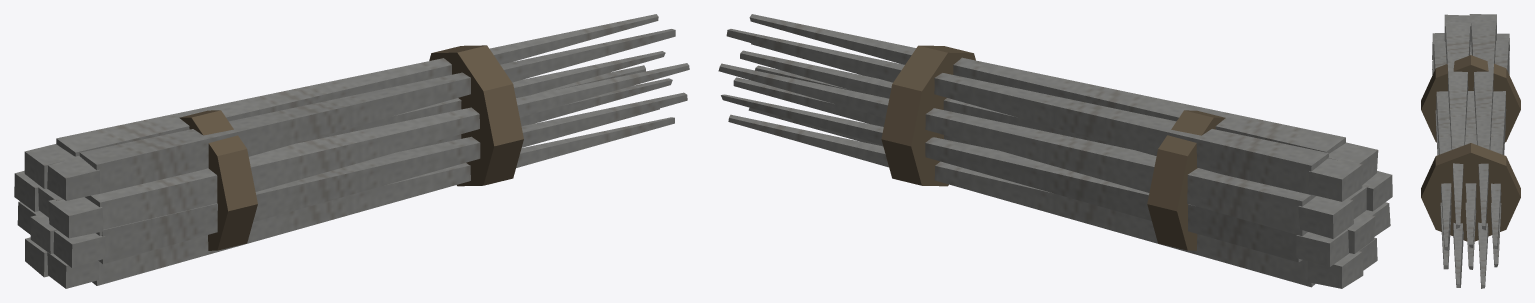
The model's file is needle_bundle.glb.
3 views of the same model, side by side, from view 1: azimuth 30°, elevation 25°; view 2: azimuth 150°, elevation 25°; view 3: azimuth 270°, elevation 25° (orthographic). The views are drawn at different scales.
Visible parts, largest first — view 1: NeedleBundle; view 2: NeedleBundle; view 3: NeedleBundle.
Boxes of the visible parts, box(x1,y1,x2,y2) form: NeedleBundle: box(14, 14, 689, 288); NeedleBundle: box(718, 14, 1392, 288); NeedleBundle: box(1421, 14, 1520, 288).
Bounding box in the file's own units: 0.8305 × 0.168 × 0.168.
Materials: 2 (1 with a texture image).
